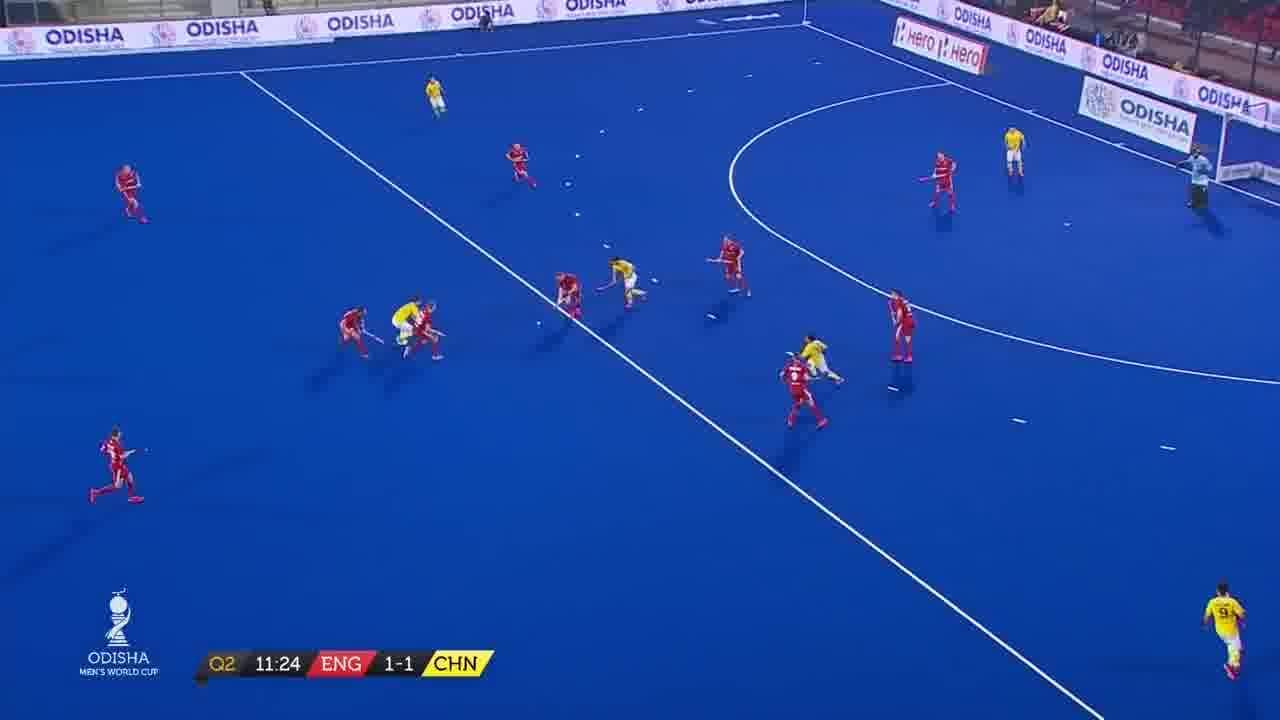ball: (536, 316, 546, 329)
